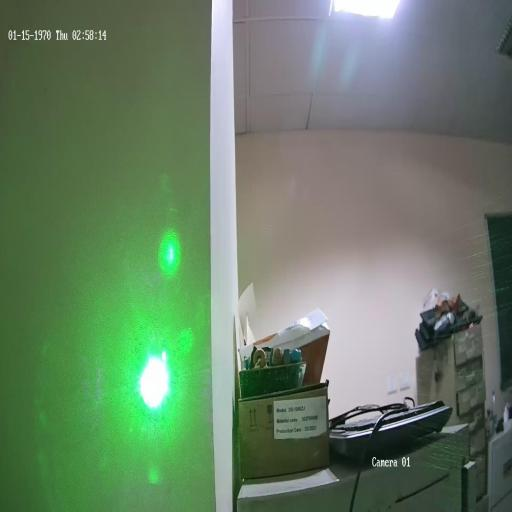laser: (132, 326, 181, 426)
